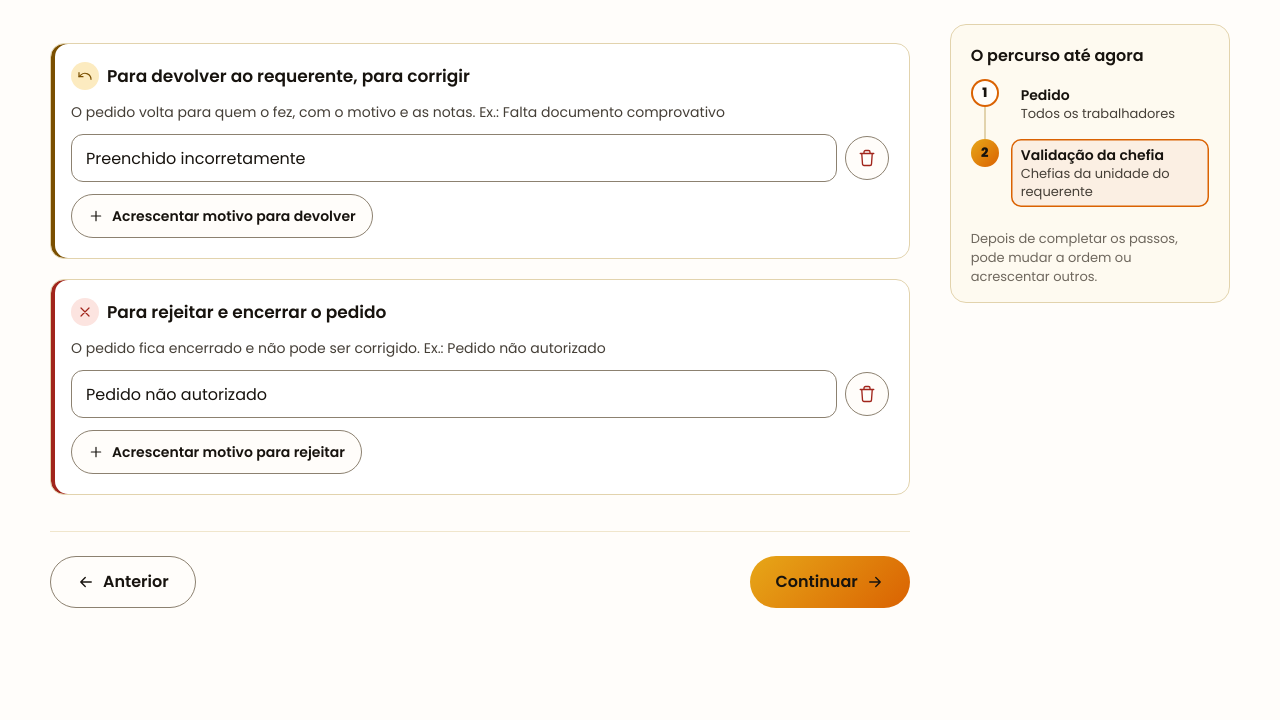
Test: creating a workflow › keeps return and reject reasons in their own lists, and asks each a name
This screenshot has width=1280, height=720.
Later steps or results of the test are not shown.
(page scrolled)
What coordinates should you click on to do the following:
click the button "Acrescentar motivo para rejeitar"
I would click on:
 (216, 452)
Its box is [71,430,362,474].
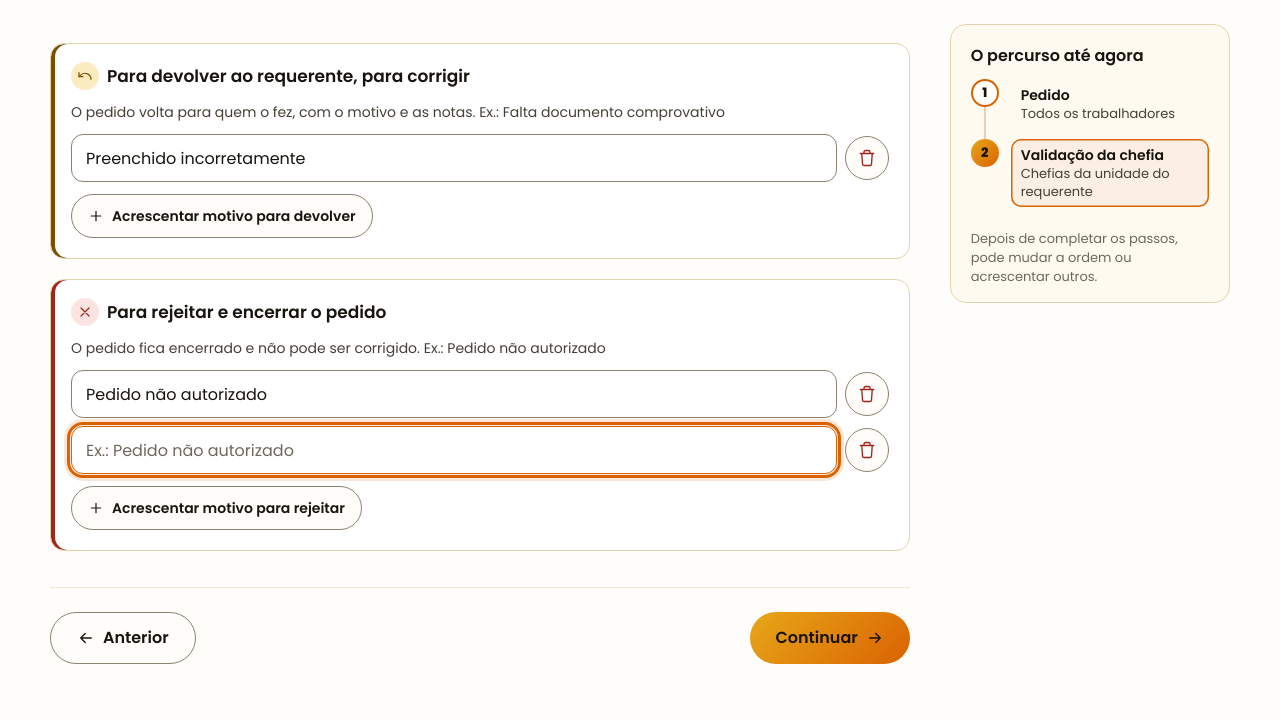
What coordinates should you click on to do the following:
click the button named "Remover o motivo «Preenchido incorretamente»"
I would click on:
 (867, 158)
Its box is [845,136,889,180].
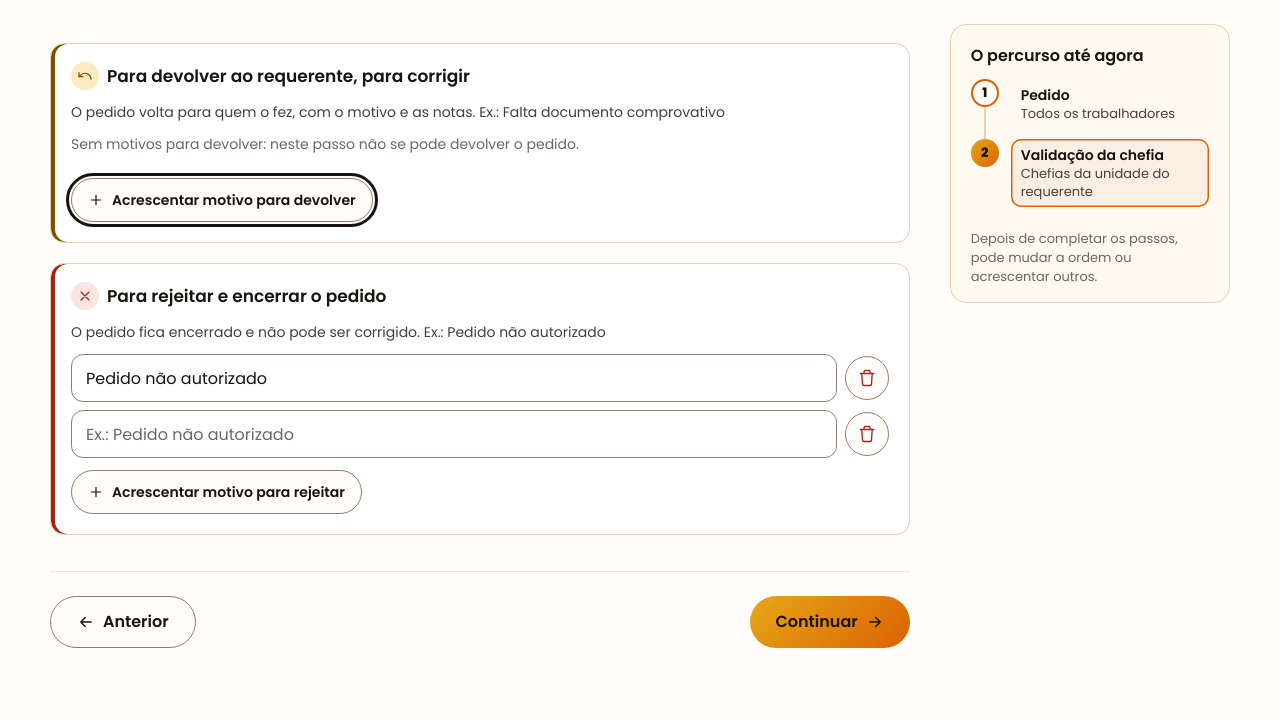
What coordinates should you click on to do the following:
click the button "Continuar"
I would click on:
 (830, 622)
Its box is [750,596,910,648].
(page scrolled)
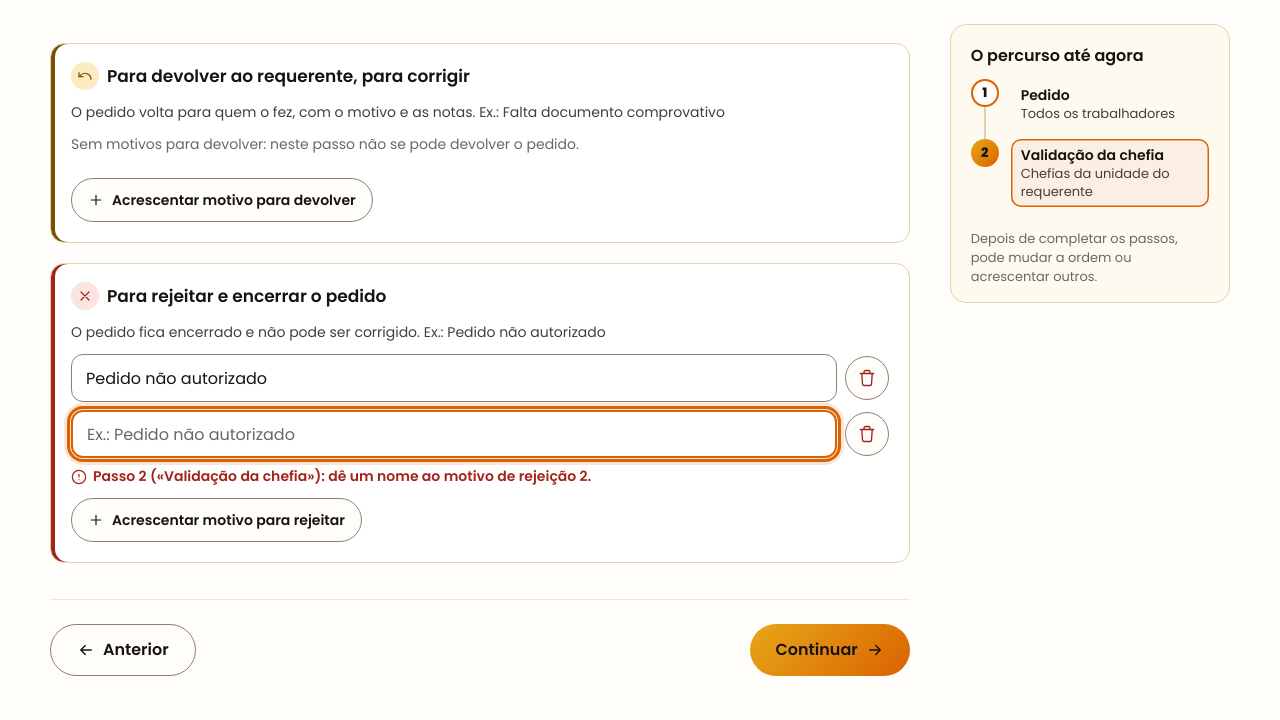
Expected: the text "Sem motivos para devolver: neste passo não se pode devolver o pedido." is shown, [71,134,579,154]
